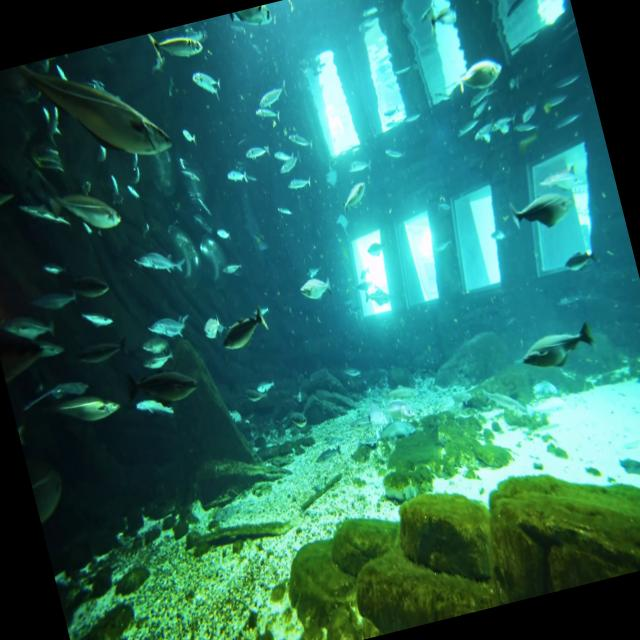fish: (24, 39, 172, 180), (52, 176, 125, 241), (122, 356, 202, 415), (513, 317, 597, 371), (46, 380, 127, 434), (507, 186, 579, 234), (134, 236, 188, 288), (218, 302, 270, 352), (151, 23, 205, 68), (447, 56, 505, 96), (145, 308, 195, 347), (298, 274, 334, 304)
